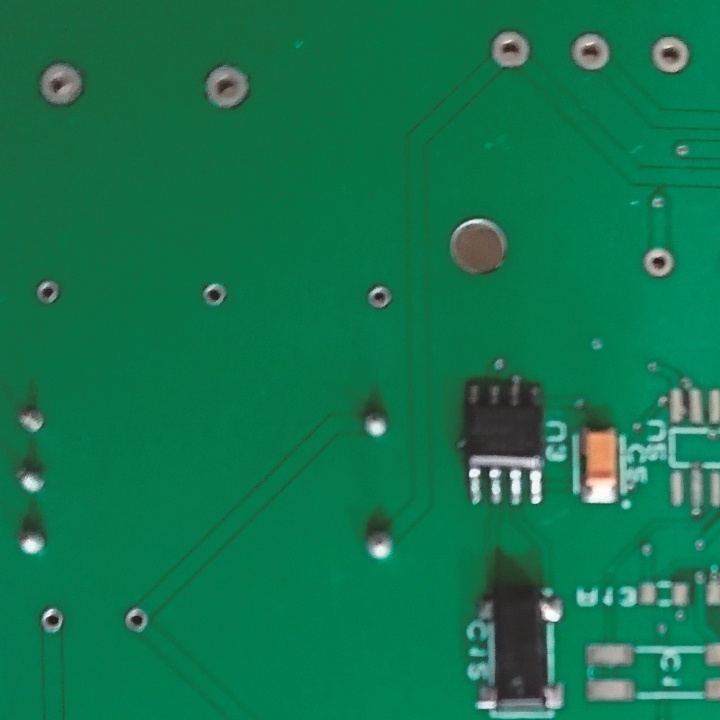F: (37, 60, 86, 112), (201, 62, 251, 111), (568, 31, 613, 77), (490, 29, 533, 72), (648, 35, 691, 72), (16, 403, 49, 437), (644, 246, 675, 280), (33, 278, 63, 307), (202, 279, 229, 308), (124, 605, 148, 635), (40, 607, 64, 635), (367, 286, 391, 311)
